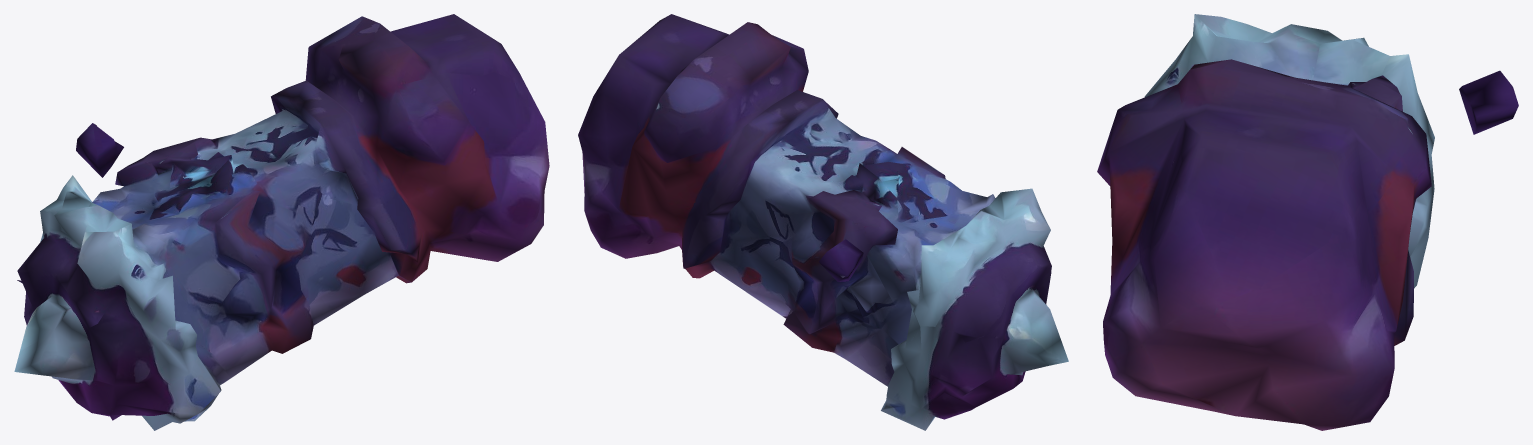
The model's file is relic-rime.glb.
The picture shows the model from 3 angles, left to right: view 1: azimuth 30°, elevation 25°; view 2: azimuth 150°, elevation 25°; view 3: azimuth 270°, elevation 25°; orthographic projection. The views are drawn at different scales.
Visible parts, largest first — view 1: tripo_node_59bb28d8-aa6d-4635-935d-2e0f012bad11; view 2: tripo_node_59bb28d8-aa6d-4635-935d-2e0f012bad11; view 3: tripo_node_59bb28d8-aa6d-4635-935d-2e0f012bad11.
Boxes of the visible parts, x1,y1,x2,y2 form: tripo_node_59bb28d8-aa6d-4635-935d-2e0f012bad11: [14, 14, 549, 430]; tripo_node_59bb28d8-aa6d-4635-935d-2e0f012bad11: [578, 14, 1068, 430]; tripo_node_59bb28d8-aa6d-4635-935d-2e0f012bad11: [1097, 14, 1518, 430].
Bounding box in the file's own units: 0.9894 × 0.6272 × 0.537.
Materials: 1 (1 with a texture image).
